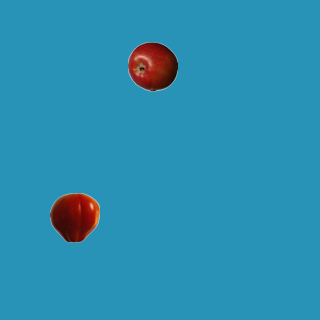Apple Braeburn: (127, 41, 177, 91)
Tomato 1: (49, 192, 99, 242)
